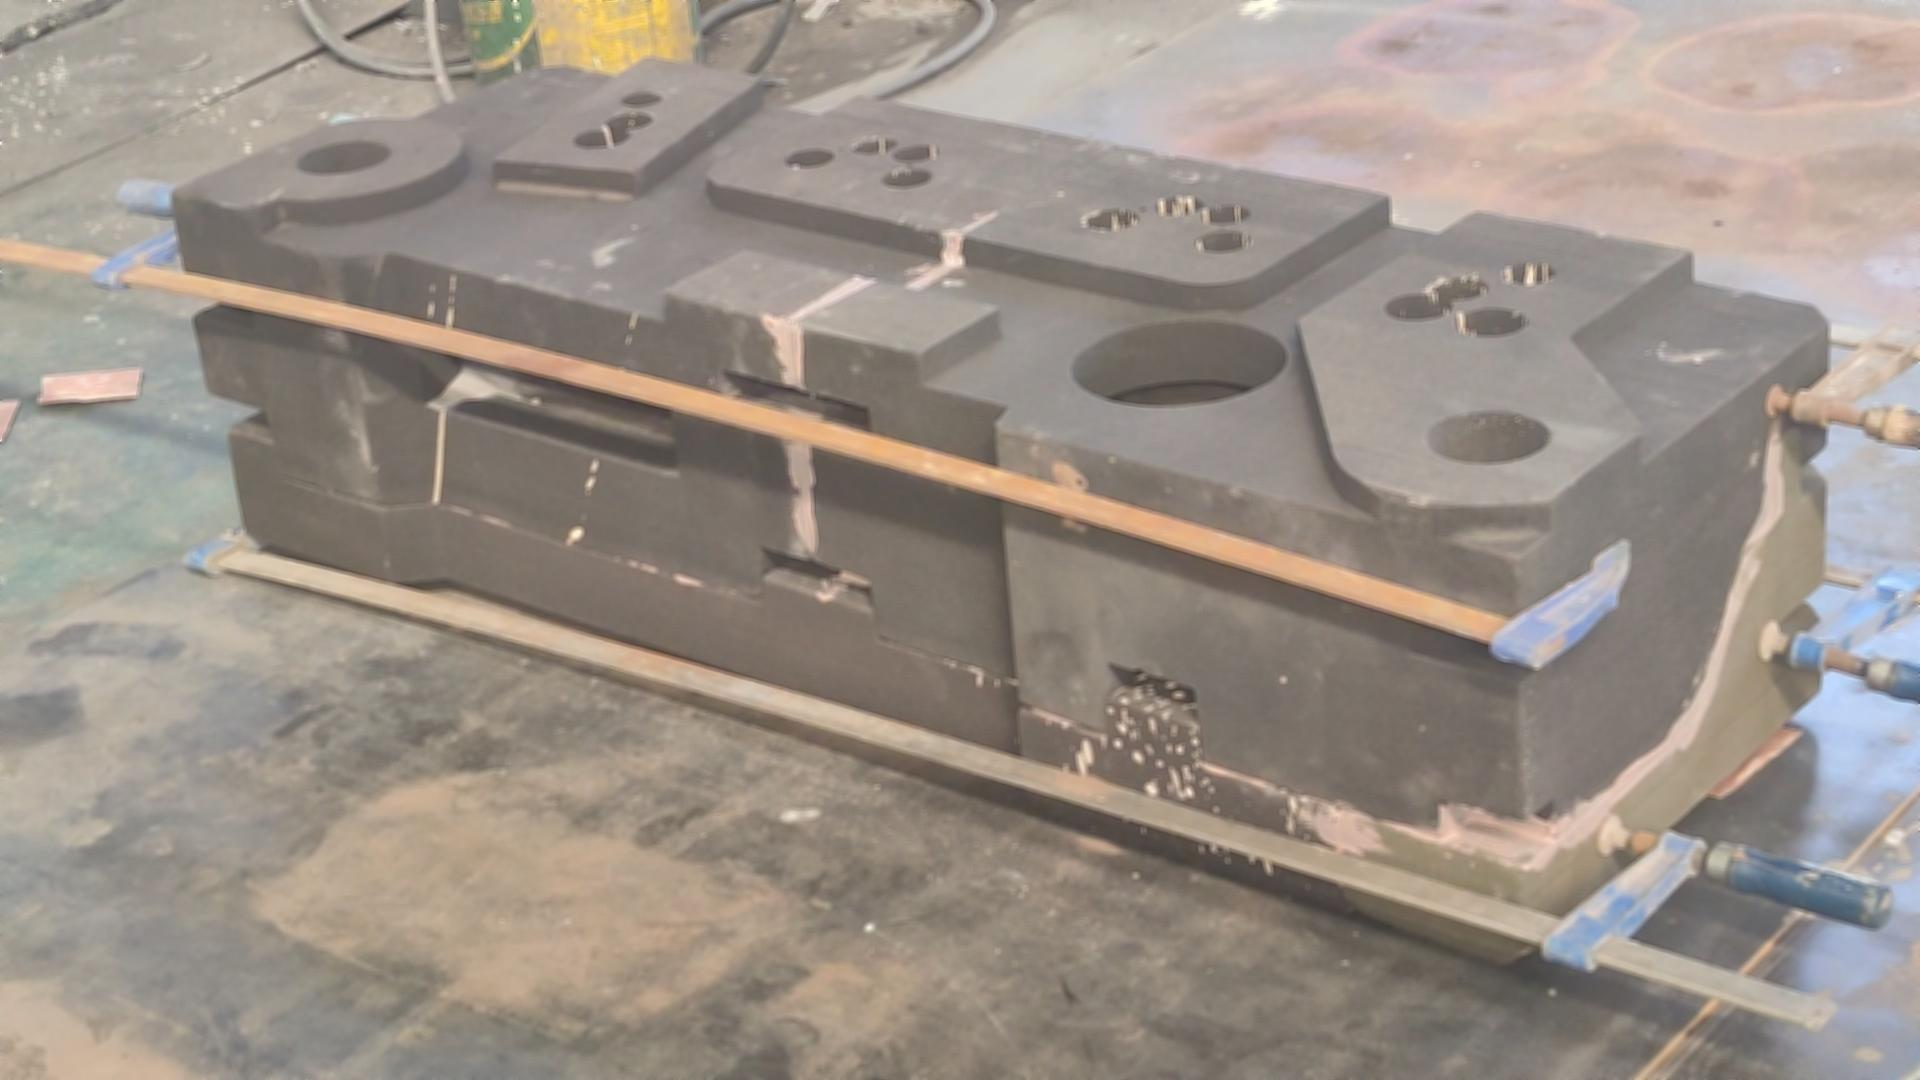pouring hole: (1425, 410, 1549, 462), (297, 141, 393, 175)
